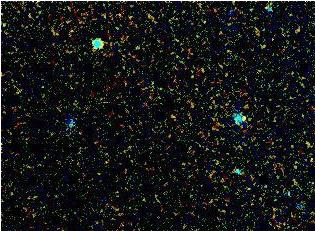star: (227, 102, 257, 132)
